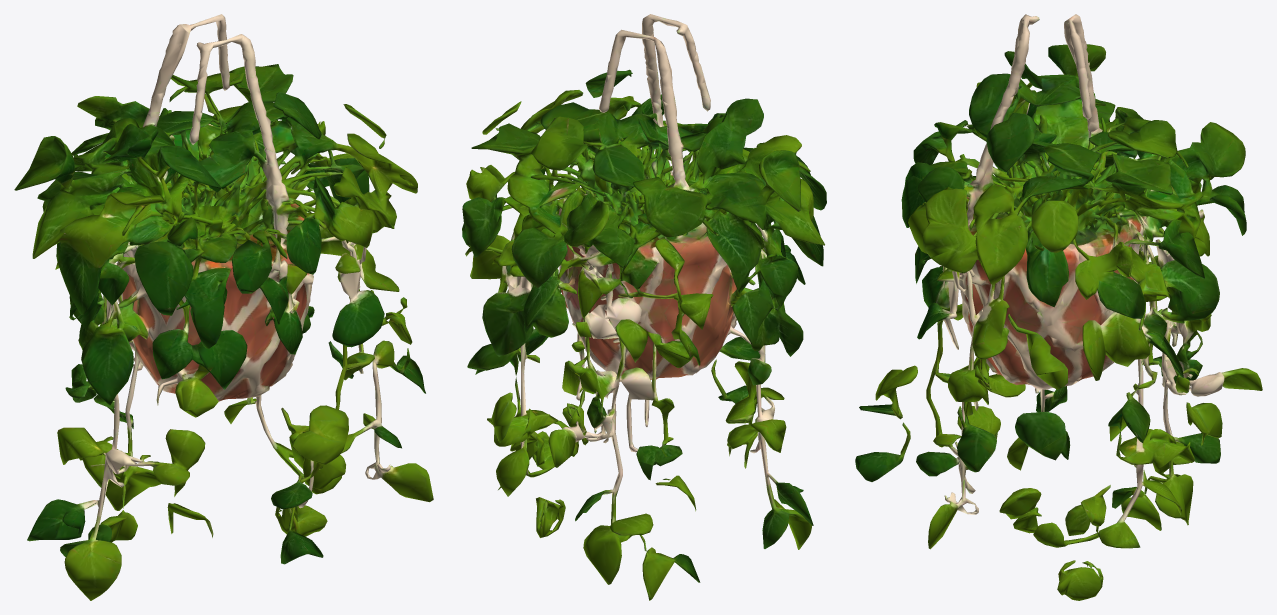
File: hanging_plant.glb
The picture shows the model from 3 angles, left to right: view 1: azimuth 30°, elevation 25°; view 2: azimuth 150°, elevation 25°; view 3: azimuth 270°, elevation 25°; orthographic projection. The views are drawn at different scales.
Size of the model in its own units: 1.36 by 2 by 1.39.
1 material, 1 textured.
